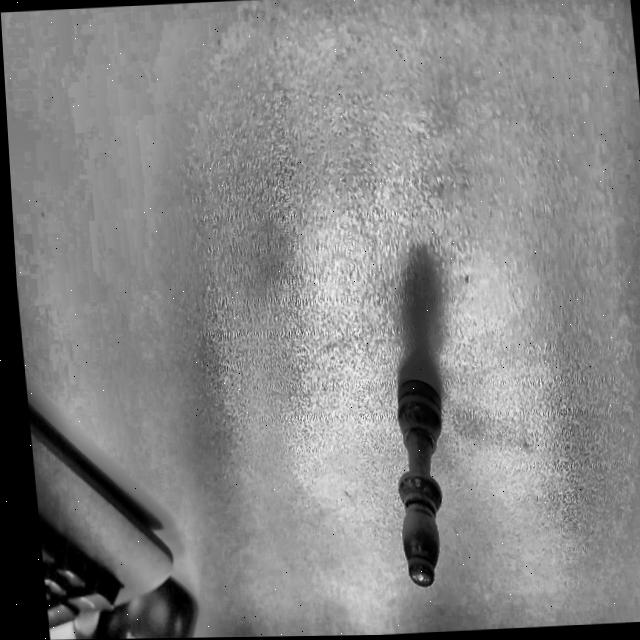black-bishop: (374, 365, 465, 608)
